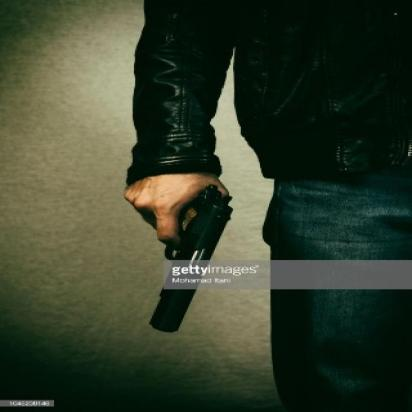Gun: (143, 180, 233, 332)
